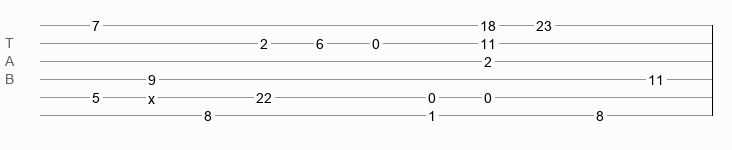0: (372, 36, 380, 46), (428, 90, 436, 100), (484, 90, 492, 100)
1: (428, 108, 436, 118)
11: (480, 36, 496, 46), (648, 72, 664, 82)
18: (480, 18, 496, 28)
2: (260, 36, 268, 46), (484, 54, 492, 64)
22: (256, 90, 272, 100)
23: (536, 18, 552, 28)
5: (92, 90, 100, 100)
6: (316, 36, 324, 46)
7: (92, 18, 100, 28)
8: (204, 108, 212, 118), (596, 108, 604, 118)
9: (148, 72, 156, 82)
x: (148, 91, 155, 99)
